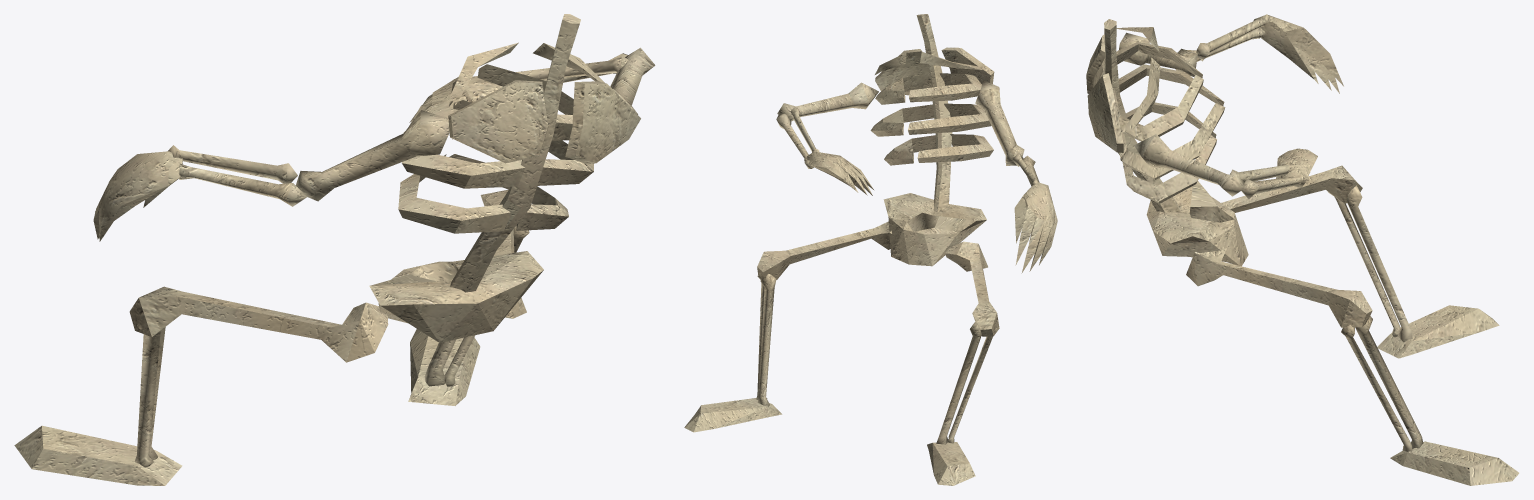
The model's file is Skeleton02.FBX.
3 renders of one model, left to right at view 1: azimuth 30°, elevation 25°; view 2: azimuth 150°, elevation 25°; view 3: azimuth 270°, elevation 25°, orthographic. The views are drawn at different scales.
Parts seen in each view (by area): view 1: Skeleton02; view 2: Skeleton02; view 3: Skeleton02.
Part boxes in pixels (left/top/right/bottom): Skeleton02: left=14, top=14, right=655, bottom=485; Skeleton02: left=684, top=14, right=1057, bottom=485; Skeleton02: left=1086, top=14, right=1519, bottom=485.
Bounding box in the file's own units: 42.28 × 43.72 × 41.73.
